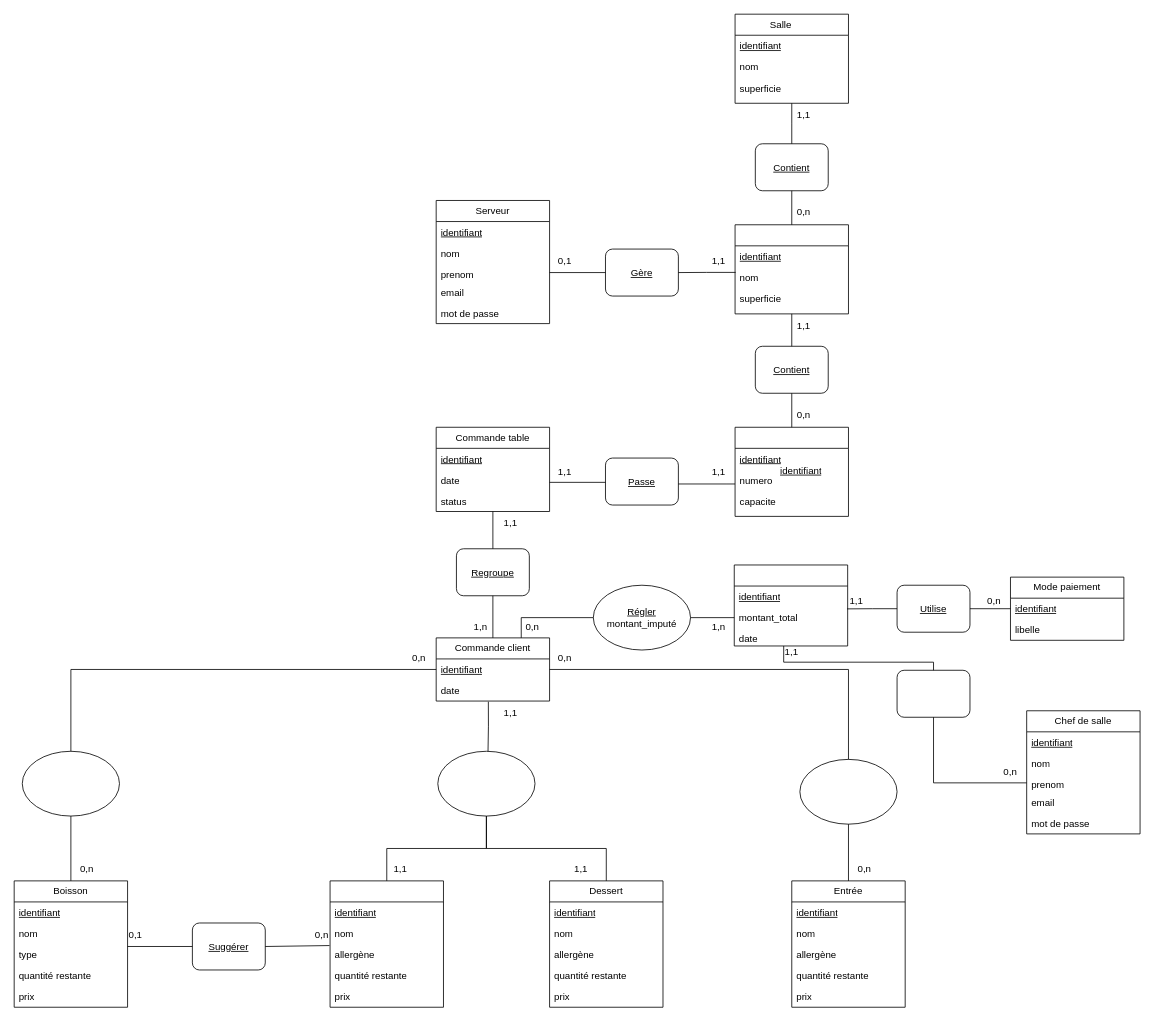
Some shapes in this 1154 by 1024 pixel diagram are drawn without their labels. The box of each missing label's shape, as (x1, y1, x2, y2) in pixels:
Choisir Formule: (437, 750, 535, 816)
Commander Boisson quantité: (21, 750, 119, 816)
Commander Entrée quantité: (799, 759, 897, 824)
Plat: (329, 880, 443, 1007)
Table: (734, 426, 848, 516)
Transaction: (733, 564, 848, 646)
Valider: (896, 669, 970, 717)
Zone: (734, 224, 848, 314)
